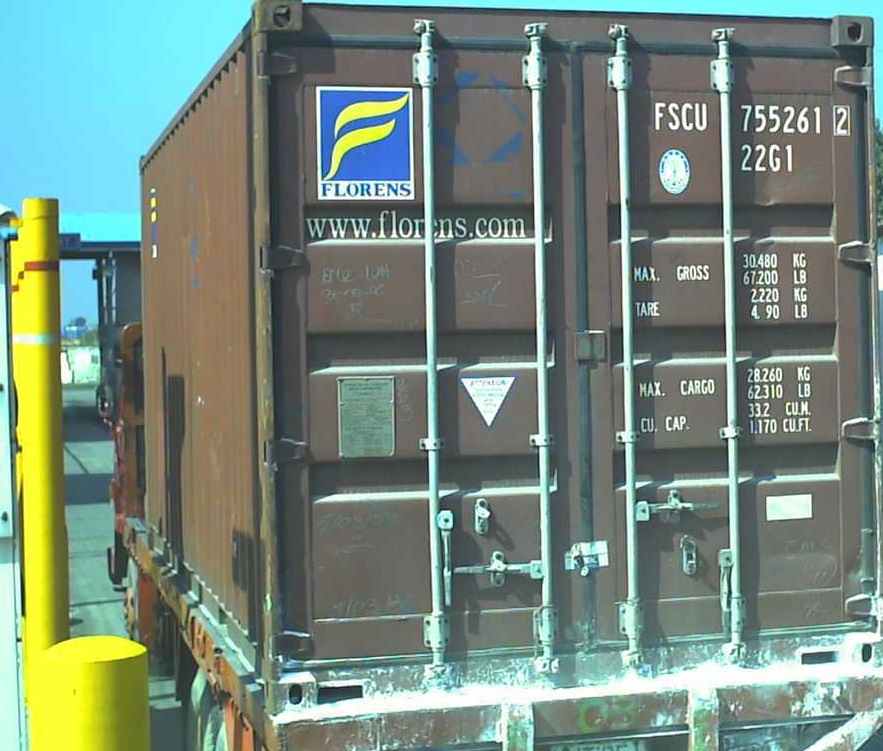container_door: (251, 1, 882, 707)
